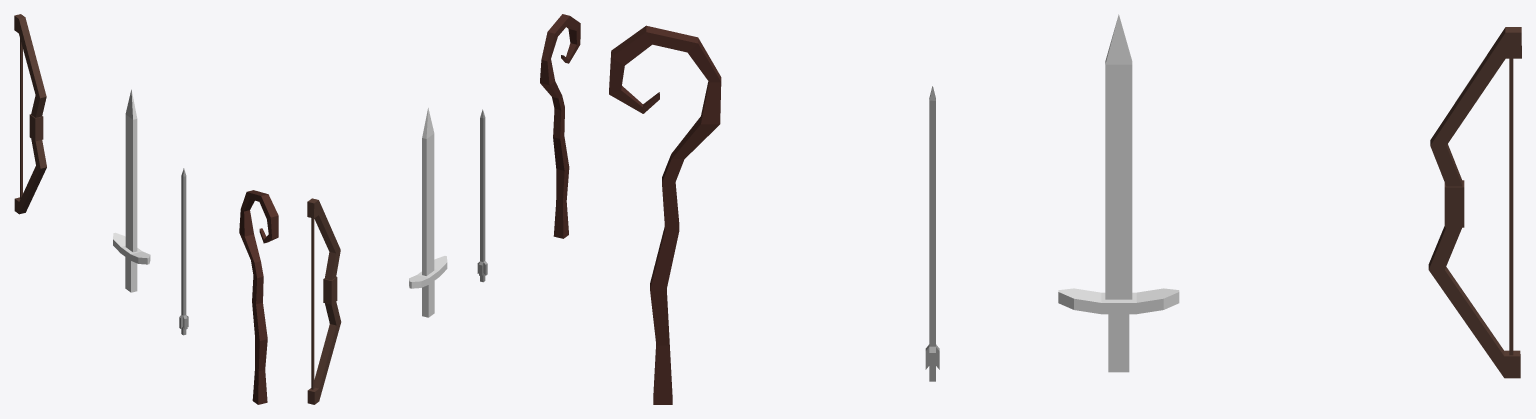
File: GGJ_Weapons_FBX.fbx
3 renders of one model, left to right at view 1: azimuth 30°, elevation 25°; view 2: azimuth 150°, elevation 25°; view 3: azimuth 270°, elevation 25°, orthographic. The views are drawn at different scales.
Parts seen in each view (by area): view 1: warriorWand, warriorBow, warriorSword, warriorArrow; view 2: warriorWand, warriorBow, warriorSword, warriorArrow; view 3: warriorSword, warriorBow, warriorWand, warriorArrow.
Part boxes in pixels (<box>): warriorWand: <box>239,190,278,404</box>; warriorBow: <box>14,14,46,214</box>; warriorSword: <box>113,89,150,292</box>; warriorArrow: <box>179,168,188,335</box>; warriorWand: <box>540,14,580,238</box>; warriorBow: <box>307,198,341,404</box>; warriorSword: <box>409,108,447,317</box>; warriorArrow: <box>477,109,487,282</box>; warriorSword: <box>1058,14,1179,372</box>; warriorBow: <box>1428,27,1521,378</box>; warriorWand: <box>609,25,721,404</box>; warriorArrow: <box>925,86,939,381</box>.
Size of the model in its own units: 6.26 by 110 by 235.
